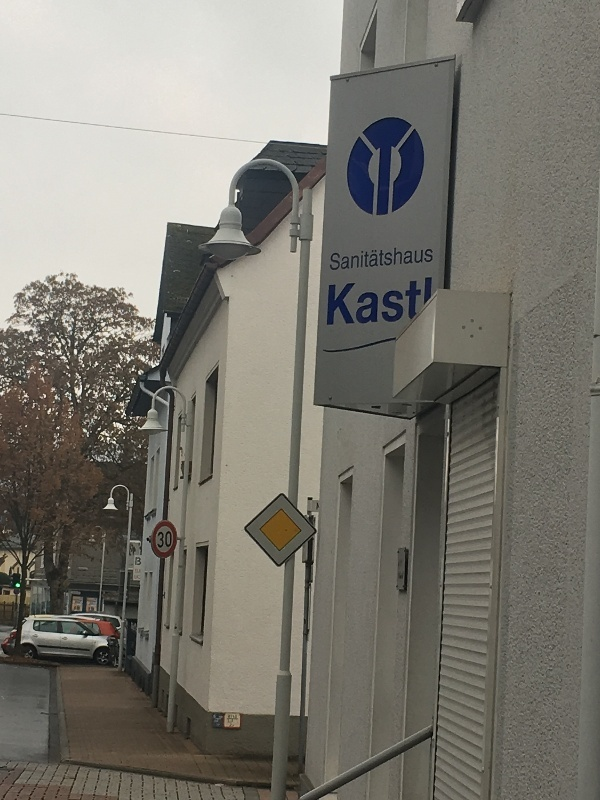text: (337, 276, 352, 326), (353, 276, 368, 326), (369, 276, 384, 326), (385, 276, 400, 326), (401, 276, 416, 326), (417, 276, 432, 326), (337, 244, 352, 272), (353, 244, 368, 272), (369, 244, 384, 272), (385, 244, 400, 272), (401, 244, 416, 272), (417, 244, 432, 272), (329, 276, 336, 326), (161, 531, 172, 550), (331, 244, 336, 272), (136, 556, 144, 565), (88, 606, 96, 613), (134, 575, 144, 580), (228, 715, 240, 719), (74, 605, 80, 612), (158, 531, 160, 550), (135, 569, 144, 573), (433, 244, 434, 272), (129, 563, 134, 567)
